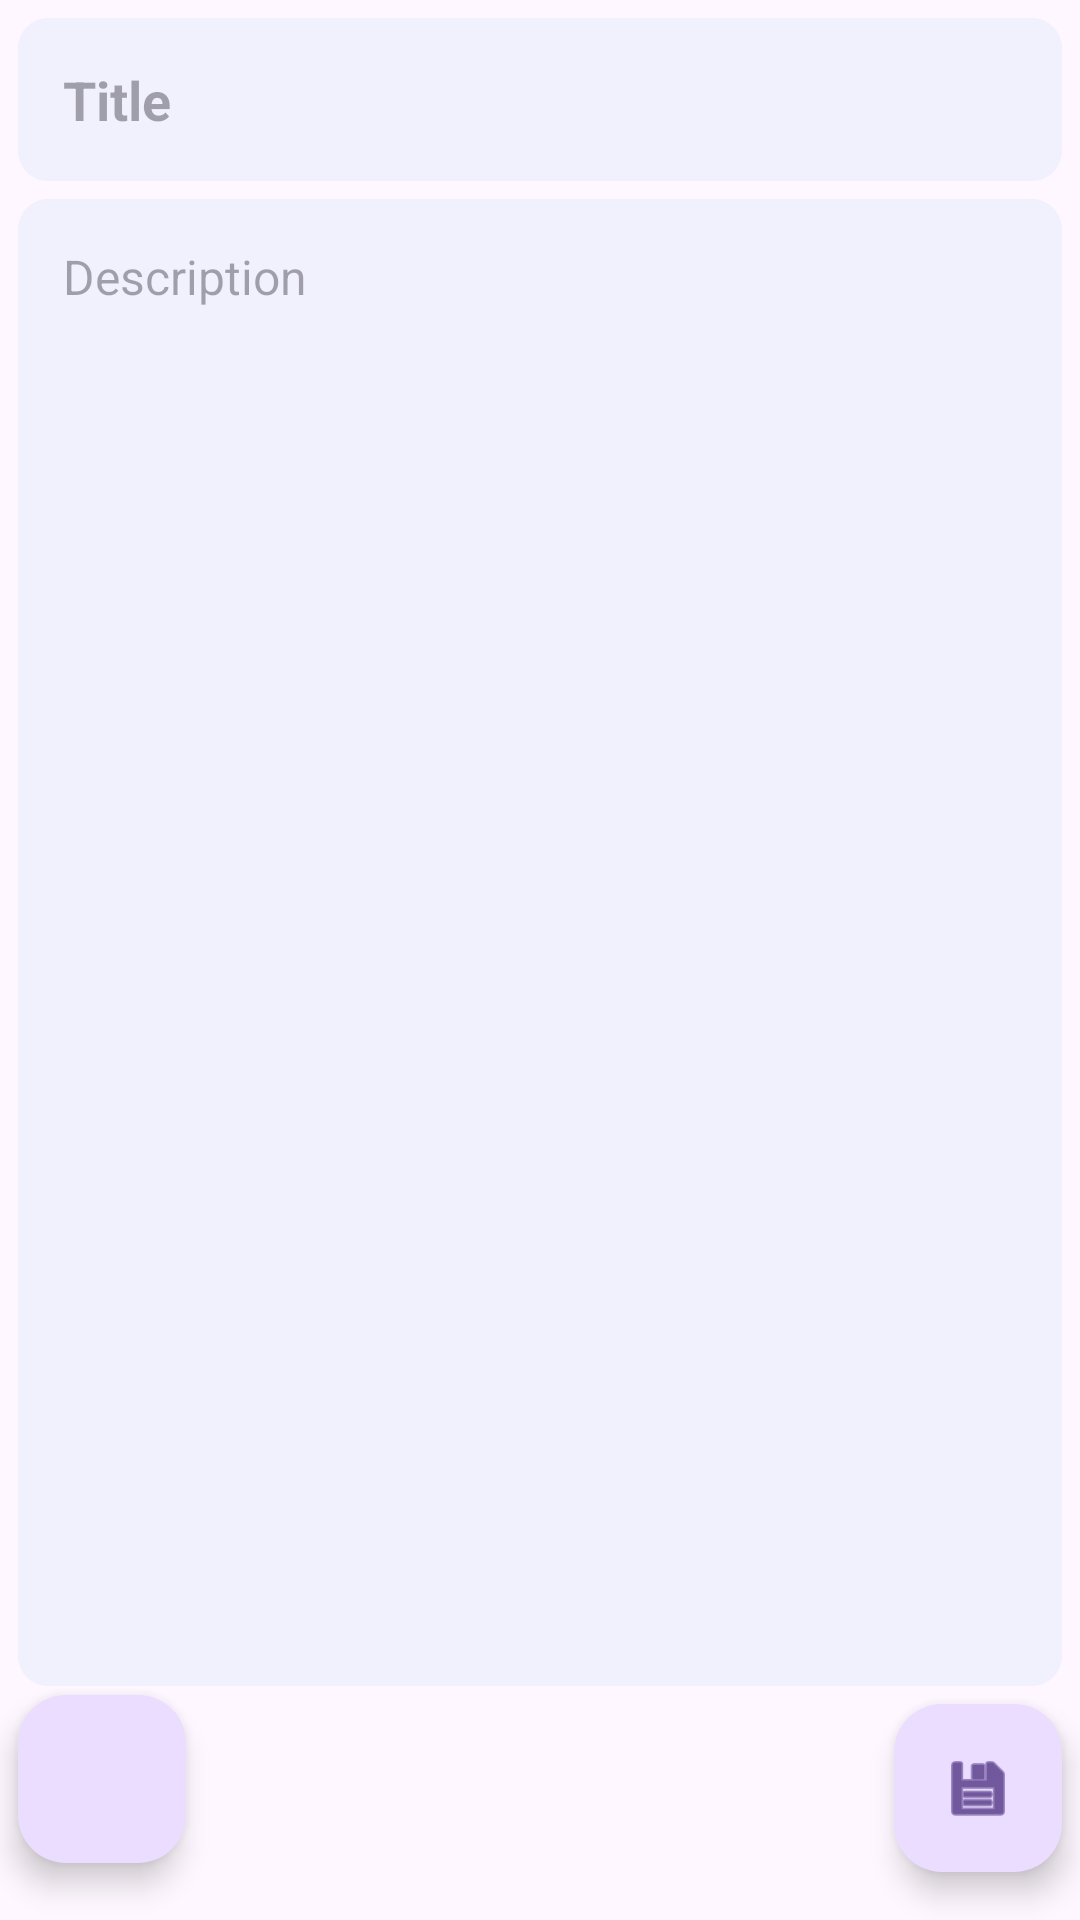

Locate icon controls on the screen. Image size 1080px×1920px, boxes as Rect(x1, y1, x2, y2).
save: Rect(894, 1704, 1062, 1872)
